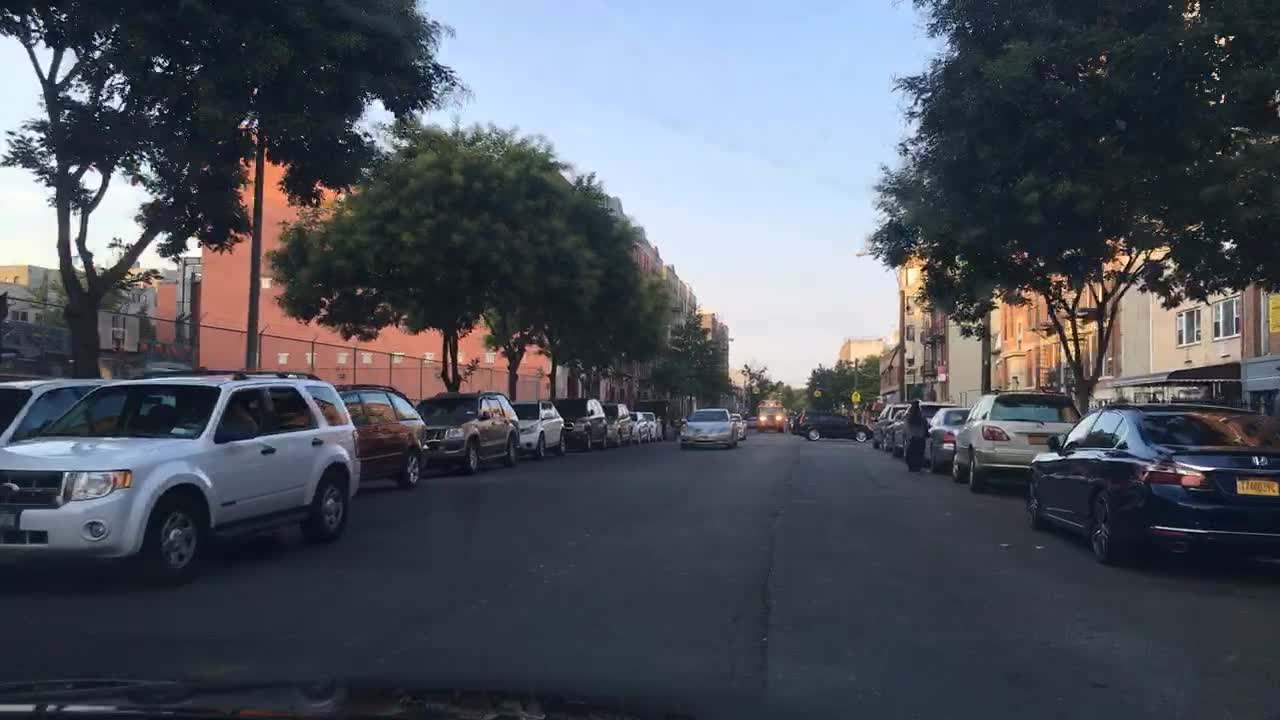car: (0, 369, 359, 582), (1025, 402, 1277, 565), (950, 392, 1085, 491), (329, 381, 431, 487), (0, 375, 127, 451), (416, 390, 518, 474), (894, 402, 957, 462), (511, 396, 567, 455), (920, 407, 970, 471), (551, 395, 607, 450), (791, 409, 874, 441), (679, 409, 733, 450), (871, 402, 911, 451), (598, 399, 632, 445), (883, 409, 906, 455), (627, 407, 649, 442), (641, 412, 665, 441), (146, 359, 191, 371), (731, 419, 746, 439), (671, 416, 688, 430), (743, 415, 760, 425), (728, 412, 743, 418)
person: (905, 398, 929, 474), (1147, 389, 1159, 405)
traffic light: (813, 386, 822, 398), (748, 384, 760, 393)
traffic sign: (936, 366, 949, 384), (849, 392, 861, 401)
truck: (0, 320, 75, 375), (639, 398, 676, 436), (759, 399, 786, 432)
